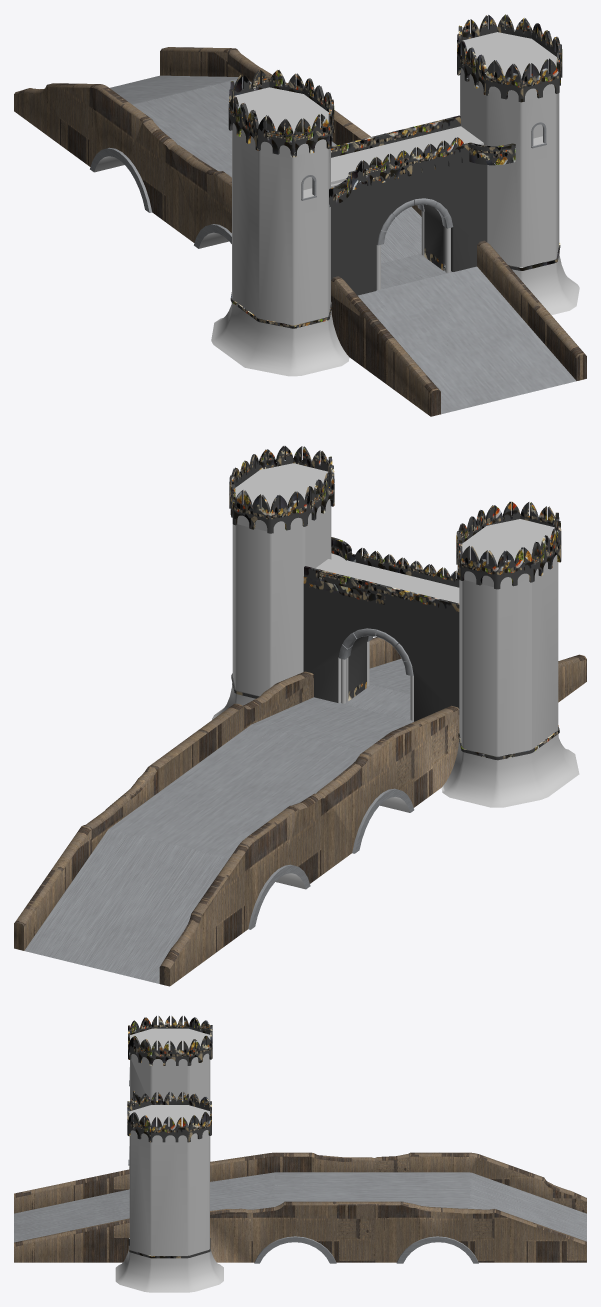
3 views of the same model, one above another, from view 1: azimuth 30°, elevation 25°; view 2: azimuth 150°, elevation 25°; view 3: azimuth 270°, elevation 25° (orthographic). The views are drawn at different scales.
Visible parts, largest first — view 1: Sketchup (×4); view 2: Sketchup (×4); view 3: Sketchup (×4).
Boxes of the visible parts, x1,y1,x2,y2 form: Sketchup (×4): (14, 14, 586, 416); Sketchup (×4): (14, 446, 586, 986); Sketchup (×4): (14, 1016, 586, 1292).
Bounding box in the file's own units: 0.9275 × 0.6543 × 2.
